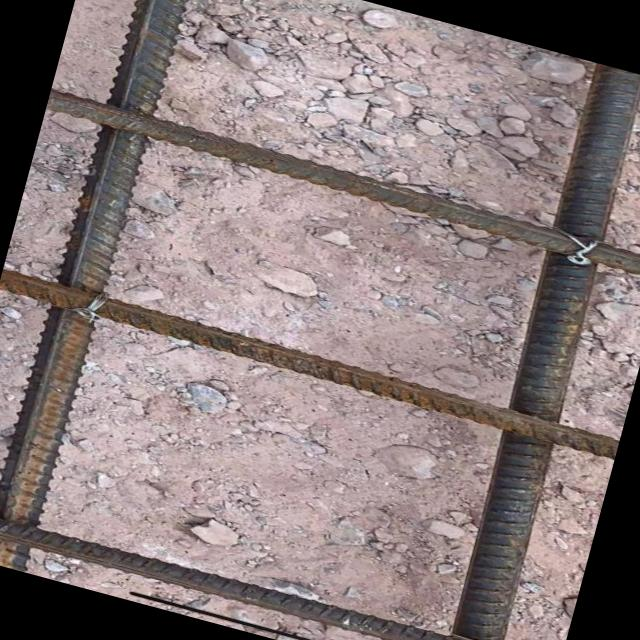ribbed bar: (427, 62, 640, 640), (0, 267, 619, 459), (43, 85, 640, 280), (0, 0, 199, 573), (0, 497, 557, 640)
